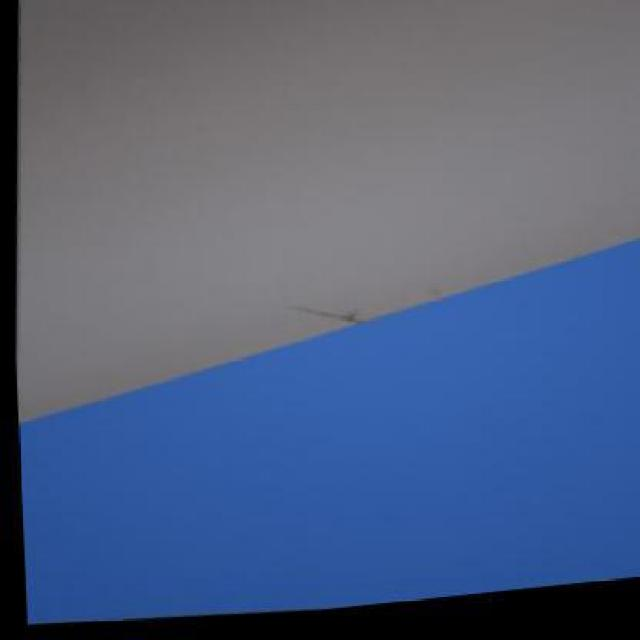Crack: (284, 300, 361, 338)
